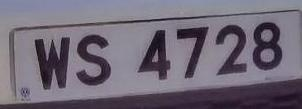2: (210, 18, 249, 79)
4: (131, 26, 177, 86)
7: (172, 20, 217, 84)
8: (250, 18, 287, 76)
S: (71, 28, 118, 93)
W: (30, 27, 75, 99)
